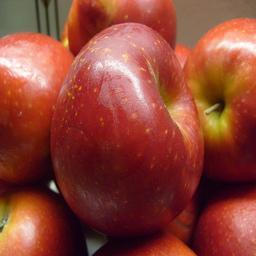apple: (51, 20, 205, 244), (180, 18, 256, 188), (1, 31, 73, 193), (1, 183, 86, 254), (68, 1, 180, 52)
